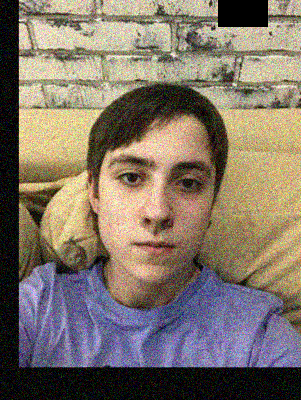without_mask: (99, 149, 215, 284)
